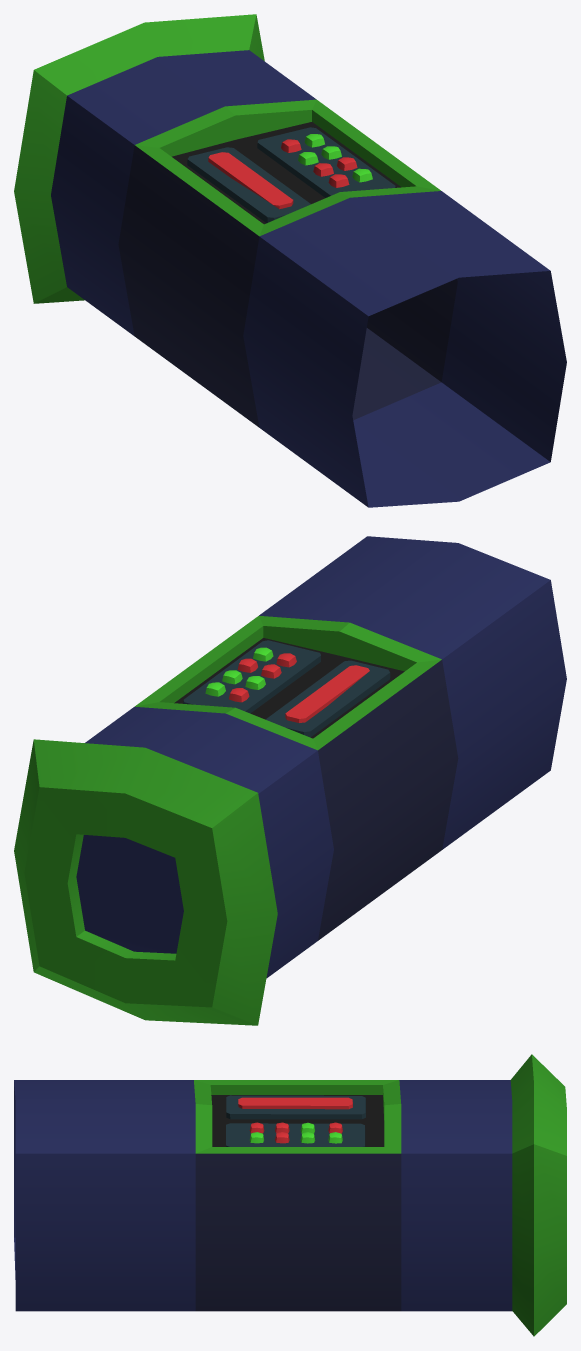
Rendered from Machine 03 Controller.FBX.
3 renders of one model, top to bottom at view 1: azimuth 30°, elevation 25°; view 2: azimuth 150°, elevation 25°; view 3: azimuth 270°, elevation 25°, orthographic. The views are drawn at different scales.
Visible parts, largest first — view 1: Machine 03 Controller; view 2: Machine 03 Controller; view 3: Machine 03 Controller.
Part boxes in pixels (x1,y1,x2,y2): Machine 03 Controller: (14,14,566,507); Machine 03 Controller: (14,536,566,1025); Machine 03 Controller: (14,1054,566,1336).
Size of the model in its own units: 95.12 by 94.42 by 210.
Materials: 1 (1 with a texture image).
